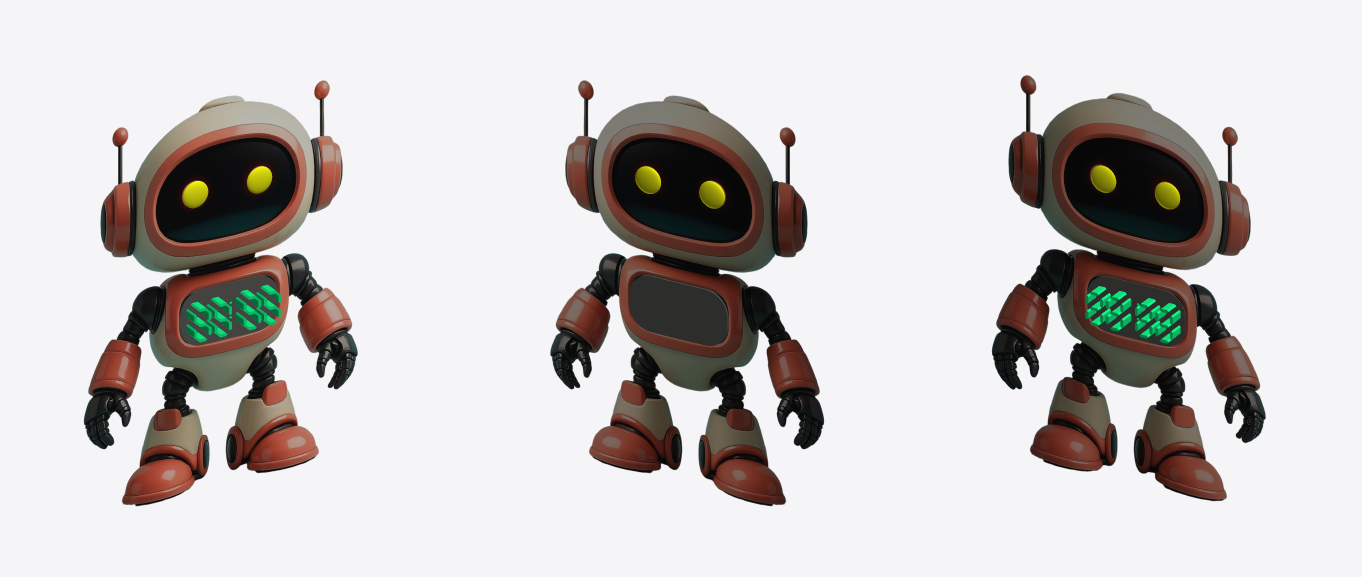
File: 可愛的3D機器人風格數位時鐘V2.glb
3 renders of one model, left to right at view 1: azimuth 30°, elevation 25°; view 2: azimuth 150°, elevation 25°; view 3: azimuth 330°, elevation 25°, orthographic.
Visible parts, largest first — view 1: 平面, 挤压, eye, eye.1; view 2: 平面, 挤压, eye, eye.1; view 3: 平面, 挤压, eye, eye.1.
Part boxes in pixels (box(x1,y1,x2,y2)): 平面: box(84, 80, 357, 506); 挤压: box(179, 275, 278, 345); eye: box(247, 166, 272, 193); eye.1: box(183, 181, 208, 208); 平面: box(550, 80, 823, 506); 挤压: box(629, 275, 728, 345); eye: box(635, 166, 660, 193); eye.1: box(699, 181, 724, 208); 平面: box(992, 75, 1265, 500); 挤压: box(1087, 276, 1185, 346); eye: box(1155, 182, 1180, 209); eye.1: box(1091, 165, 1116, 192).
Size of the model in its own units: 400 by 400 by 17.53.
Materials: 4 (1 with a texture image).
